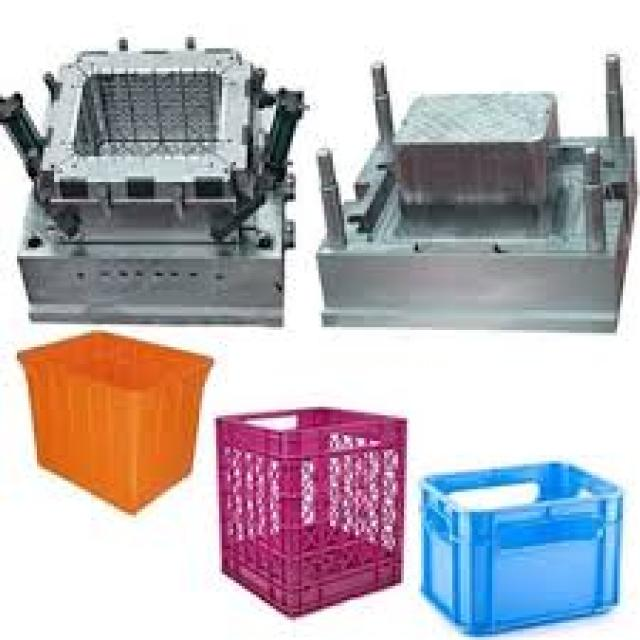basket: (0, 317, 215, 524), (217, 409, 405, 618), (424, 464, 626, 637)
